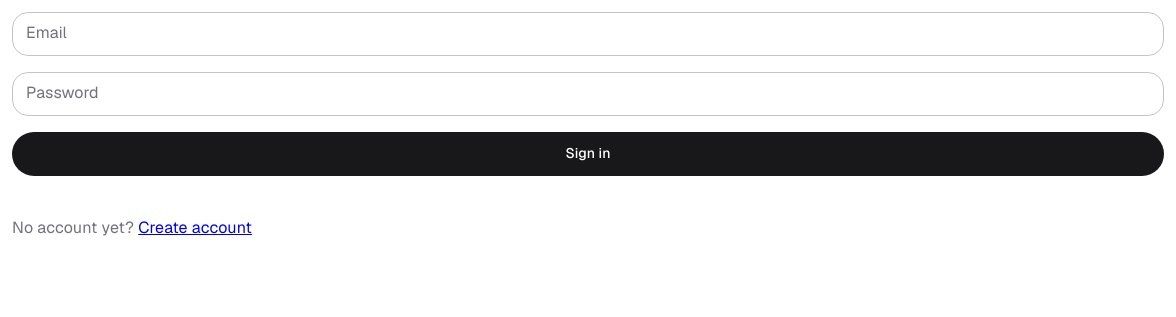
LoginForm › shows an API error message
The image size is (1176, 317).
Type "ada@example.com" into the field labelled "Email" at [588, 34], box top-left (12, 14), bottom-right (1164, 54)
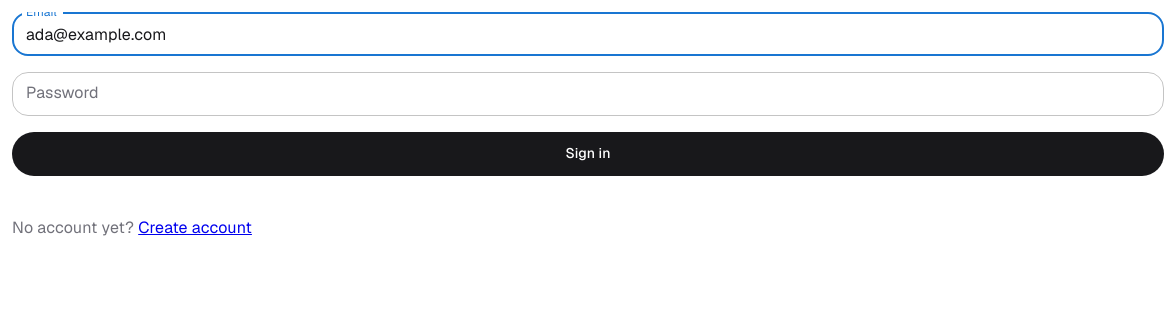
Type "long-enough" into the password field labelled "Password" at [588, 94], box top-left (12, 74), bottom-right (1164, 114)
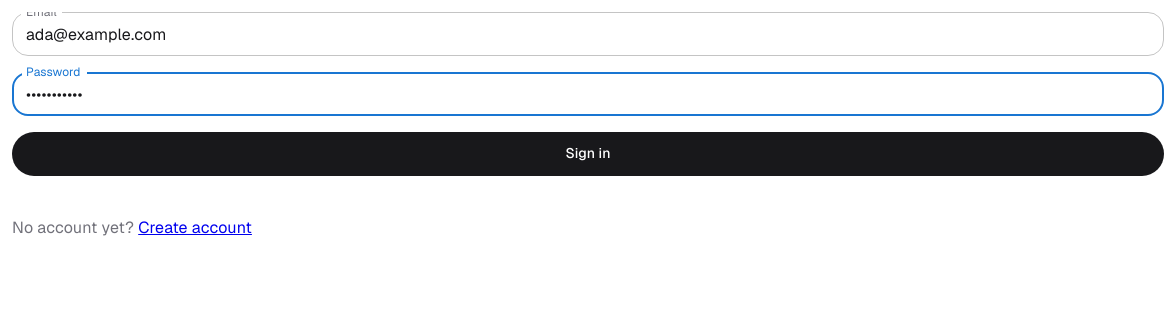
Click the button "Sign in" at [588, 154], box top-left (12, 132), bottom-right (1164, 176)
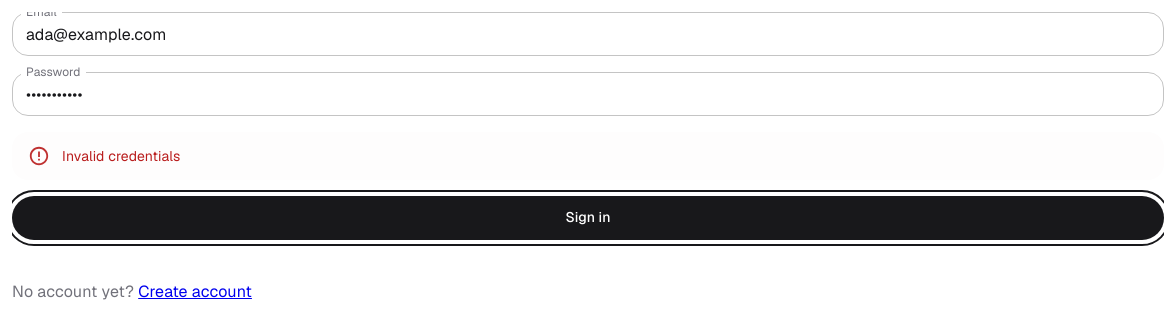
Expected: the message reads "Invalid credentials", top-left (62, 147), bottom-right (180, 165)
